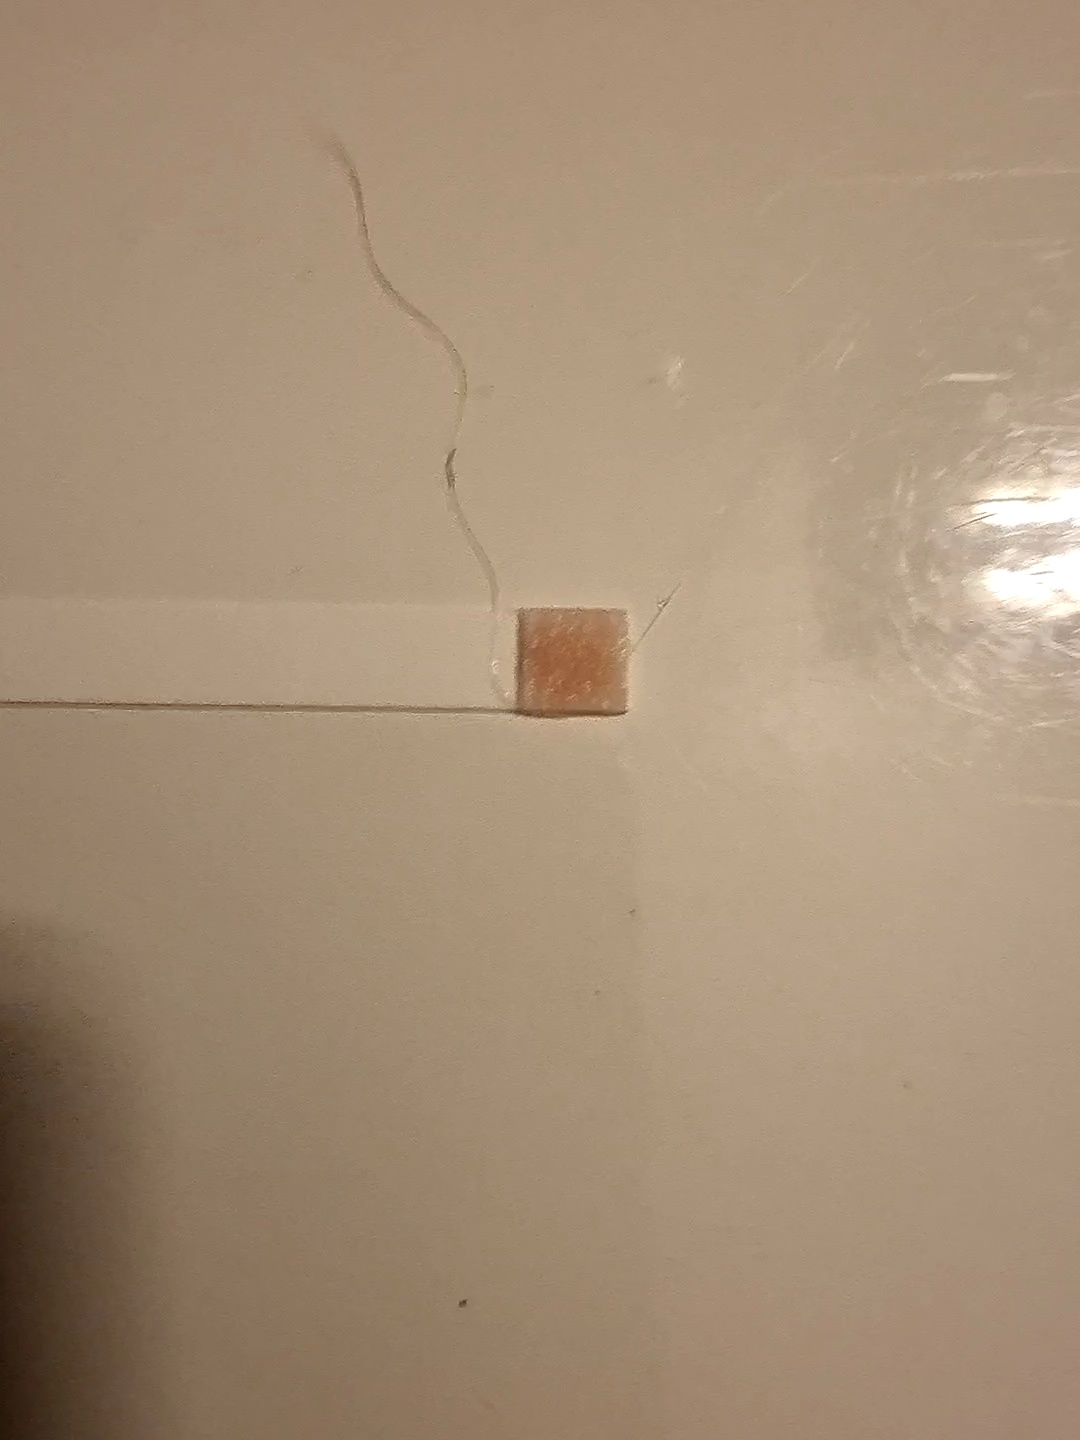keto-tip: (511, 602, 634, 721)
